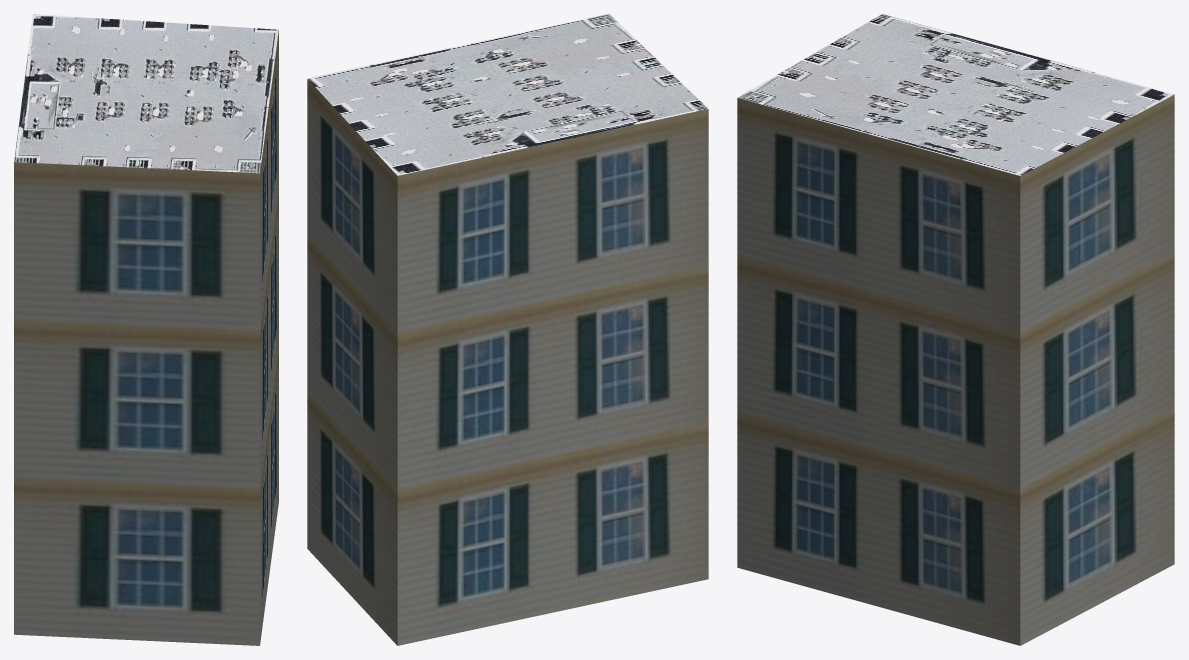
Rendered from ResTex__2945.fbx.
The picture shows the model from 3 angles, left to right: view 1: azimuth 30°, elevation 25°; view 2: azimuth 150°, elevation 25°; view 3: azimuth 270°, elevation 25°; orthographic projection.
Visible parts, largest first — view 1: CityEngineMaterial_7_m, CityEngineMaterial_8_m; view 2: CityEngineMaterial_7_m, CityEngineMaterial_8_m; view 3: CityEngineMaterial_7_m, CityEngineMaterial_8_m.
Part boxes in pixels (x1,y1,x2,y2): CityEngineMaterial_7_m: [14, 31, 278, 645]; CityEngineMaterial_8_m: [14, 14, 278, 173]; CityEngineMaterial_7_m: [307, 79, 708, 645]; CityEngineMaterial_8_m: [307, 14, 708, 175]; CityEngineMaterial_7_m: [737, 94, 1174, 645]; CityEngineMaterial_8_m: [737, 14, 1174, 175].
Bounding box in the file's own units: 6.66 × 9 × 7.59.
Materials: 2 (2 with a texture image).
